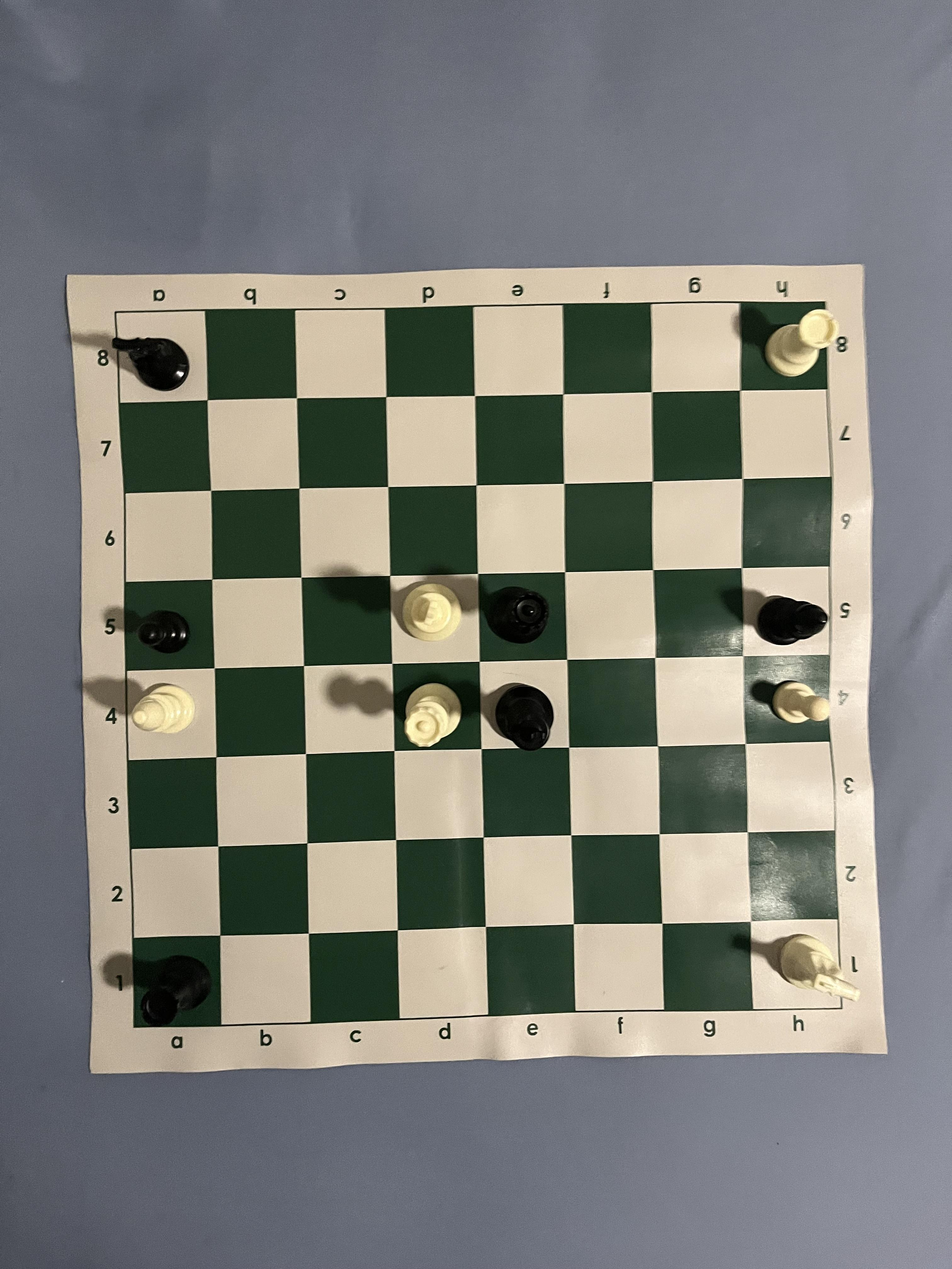black_bishop: (468, 1008, 506, 1106)
black_king: (388, 660, 440, 740)
black_knight: (658, 149, 699, 253)
black_pawn: (461, 183, 495, 255)
black_queen: (468, 648, 512, 733)
black_rook: (182, 187, 235, 282)
white_bishop: (402, 173, 440, 259)
white_king: (469, 535, 515, 616)
white_knight: (201, 1039, 251, 1148)
white_pawn: (409, 1029, 442, 1108)
white_queen: (391, 538, 441, 616)
white_rook: (668, 1019, 722, 1117)
